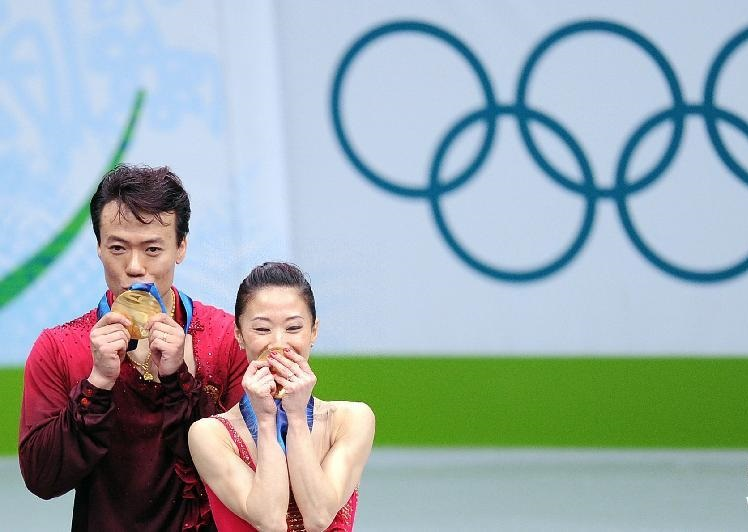face: (100, 206, 178, 301), (243, 287, 314, 377)
